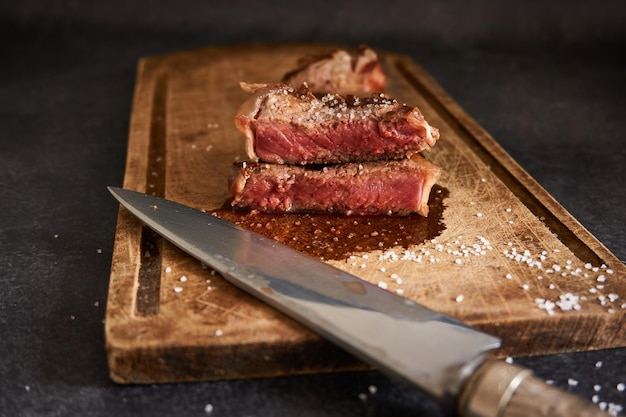knife: (106, 183, 622, 417)
